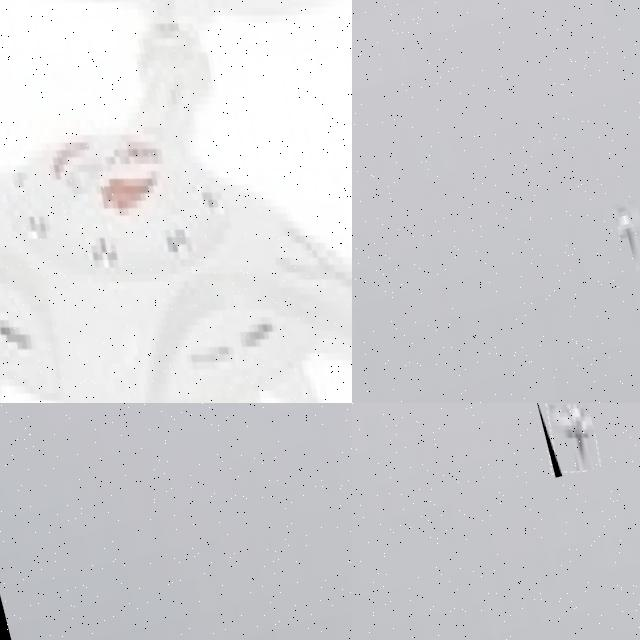drone: (0, 0, 352, 403), (533, 403, 602, 477)
